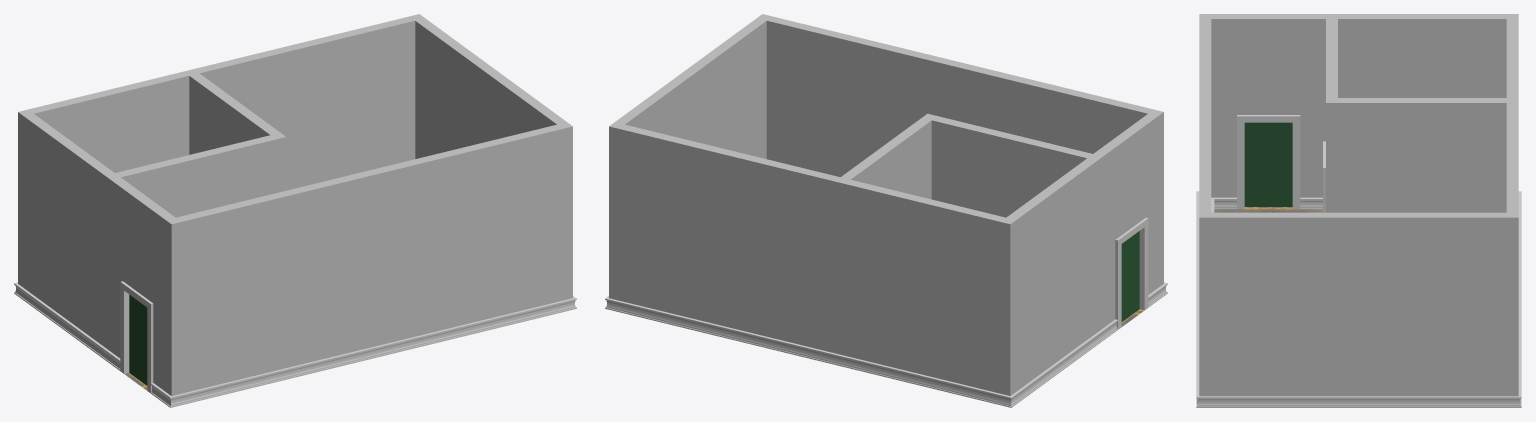
Rendered from bg_DormRoom_Mesh.fbx.
3 views of the same model, side by side, from view 1: azimuth 30°, elevation 25°; view 2: azimuth 150°, elevation 25°; view 3: azimuth 270°, elevation 25° (orthographic). The views are drawn at different scales.
Parts seen in each view (by area): view 1: SM_Wall_1x14_01, SM_Wall_1x14_02, SM_Wall_1x9_01, SM_Wall_1x9_02, SM_Wall_1x10_01, SM_DoorWall_1x6_01, SM_DoorWall_1x6_02, SM_WallTrim_06, SM_Wall_1x9_03, SM_WallCorner_1x1_02, SM_WallCorner_1x1_01, SM_Wall_1x2_01 (+8 smaller); view 2: SM_Wall_1x14_02, SM_Wall_1x14_01, SM_Wall_1x10_01, SM_Wall_1x9_01, SM_Wall_1x9_02, SM_DoorWall_1x6_01, SM_DoorWall_1x6_02, SM_Wall_1x9_03, SM_WallCorner_1x1_03, SM_WallThreeWay_1x1_02, SM_Wall_1x2_01, SM_WallTrim_08 (+9 smaller); view 3: SM_Wall_1x9_02, SM_Wall_1x9_03, SM_DoorWall_1x6_01, SM_Wall_1x9_01, SM_Door_06, SM_WallTrim_09, SM_WallCorner_1x1_01, SM_WallCorner_1x1_04, SM_Wall_1x14_01, SM_DoorFrame_01, SM_WallCorner_1x1_05, SM_Wall_1x14_02 (+12 smaller).
Part boxes in pixels (x1,y1,x2,y2): SM_Wall_1x14_01: [178, 125, 560, 392]; SM_Wall_1x14_02: [196, 17, 412, 190]; SM_Wall_1x9_01: [23, 114, 112, 345]; SM_Wall_1x9_02: [416, 19, 565, 158]; SM_Wall_1x10_01: [31, 72, 186, 172]; SM_DoorWall_1x6_01: [112, 178, 173, 390]; SM_DoorWall_1x6_02: [148, 143, 243, 217]; SM_WallTrim_06: [184, 301, 561, 403]; SM_Wall_1x9_03: [190, 74, 278, 154]; SM_WallCorner_1x1_02: [164, 216, 183, 395]; SM_WallCorner_1x1_01: [555, 121, 572, 301]; SM_Wall_1x2_01: [238, 136, 273, 200]; SM_Wall_1x14_02: [621, 125, 837, 352]; SM_Wall_1x14_01: [769, 17, 1150, 176]; SM_Wall_1x10_01: [847, 180, 1003, 392]; SM_Wall_1x9_01: [1007, 159, 1095, 391]; SM_Wall_1x9_02: [616, 19, 765, 158]; SM_DoorWall_1x6_01: [1095, 115, 1156, 326]; SM_DoorWall_1x6_02: [964, 124, 1059, 217]; SM_Wall_1x9_03: [842, 119, 930, 198]; SM_WallCorner_1x1_03: [998, 216, 1016, 395]; SM_WallThreeWay_1x1_02: [832, 176, 852, 355]; SM_Wall_1x2_01: [934, 116, 969, 207]; SM_WallTrim_08: [620, 301, 831, 363]; SM_Wall_1x9_02: [1214, 212, 1503, 396]; SM_Wall_1x9_03: [1341, 98, 1503, 212]; SM_DoorWall_1x6_01: [1214, 14, 1322, 197]; SM_Wall_1x9_01: [1341, 14, 1506, 97]; SM_Door_06: [1244, 122, 1292, 206]; SM_WallTrim_09: [1214, 396, 1503, 407]; SM_WallCorner_1x1_01: [1199, 211, 1214, 396]; SM_WallCorner_1x1_04: [1503, 211, 1518, 396]; SM_Wall_1x14_01: [1199, 20, 1211, 211]; SM_DoorFrame_01: [1237, 115, 1300, 209]; SM_WallCorner_1x1_05: [1326, 96, 1340, 212]; SM_Wall_1x14_02: [1506, 104, 1518, 211].
Size of the model in its own units: 1540 by 659 by 1027.
